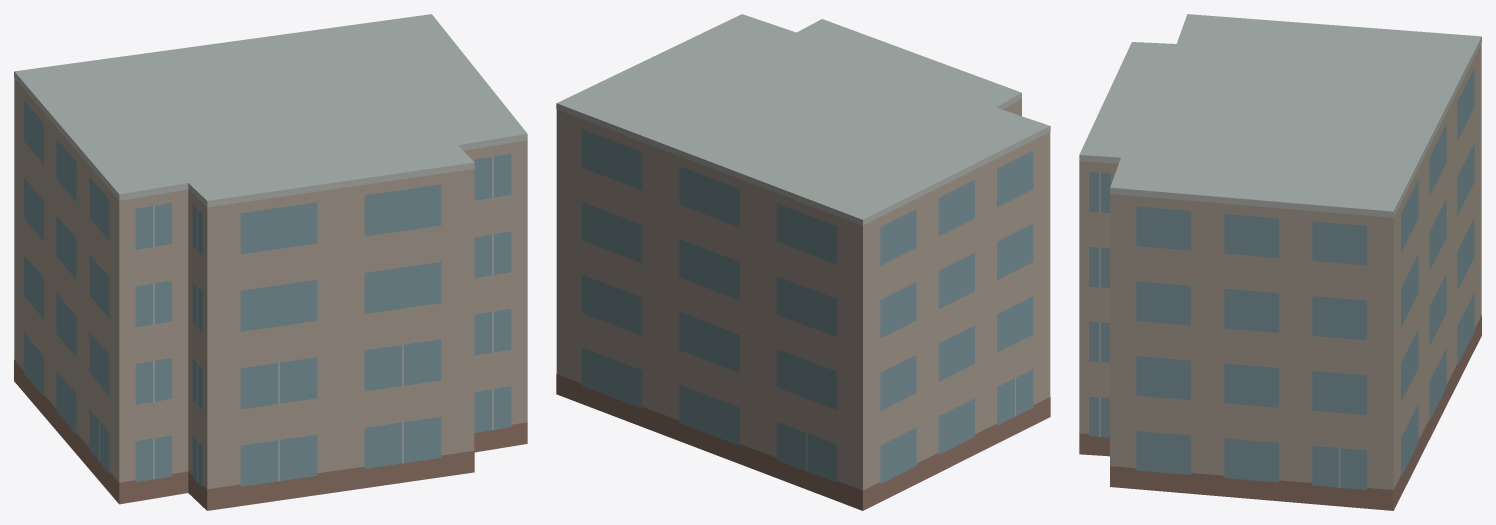
File: survey-upis-32956058.glb
3 renders of one model, left to right at view 1: azimuth 30°, elevation 25°; view 2: azimuth 150°, elevation 25°; view 3: azimuth 270°, elevation 25°, orthographic. The views are drawn at different scales.
Visible parts, largest first — view 1: survey-upis-32956058.tmp; view 2: survey-upis-32956058.tmp; view 3: survey-upis-32956058.tmp.
Boxes of the visible parts, x1,y1,x2,y2 form: survey-upis-32956058.tmp: (14,14,527,510); survey-upis-32956058.tmp: (556,14,1050,510); survey-upis-32956058.tmp: (1079,14,1481,510).
Bounding box in the file's own units: 16.58 × 11.7 × 14.28.
